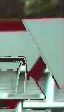Give way: (0, 13, 49, 109)
